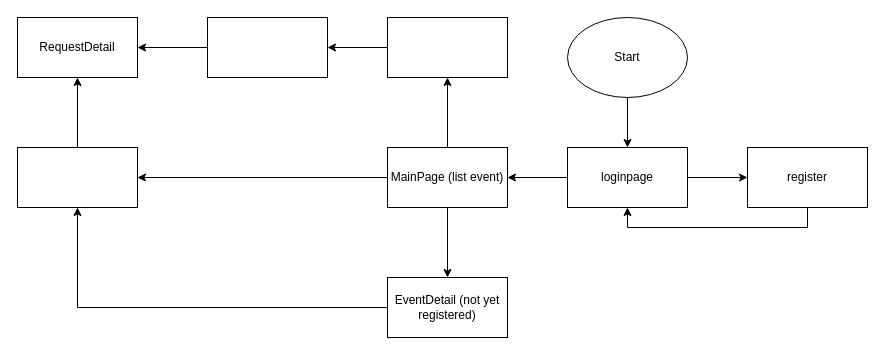
Some shapes in this 885 by 355 pixel diagram are drawn without their labels. The box of each missing label's shape, as (x1, y1, x2, y2) in pixels:
AccountPage: (386, 16, 508, 78)
AllRequestList: (206, 16, 328, 78)
EventDetail (registered at this event): (16, 146, 138, 208)
